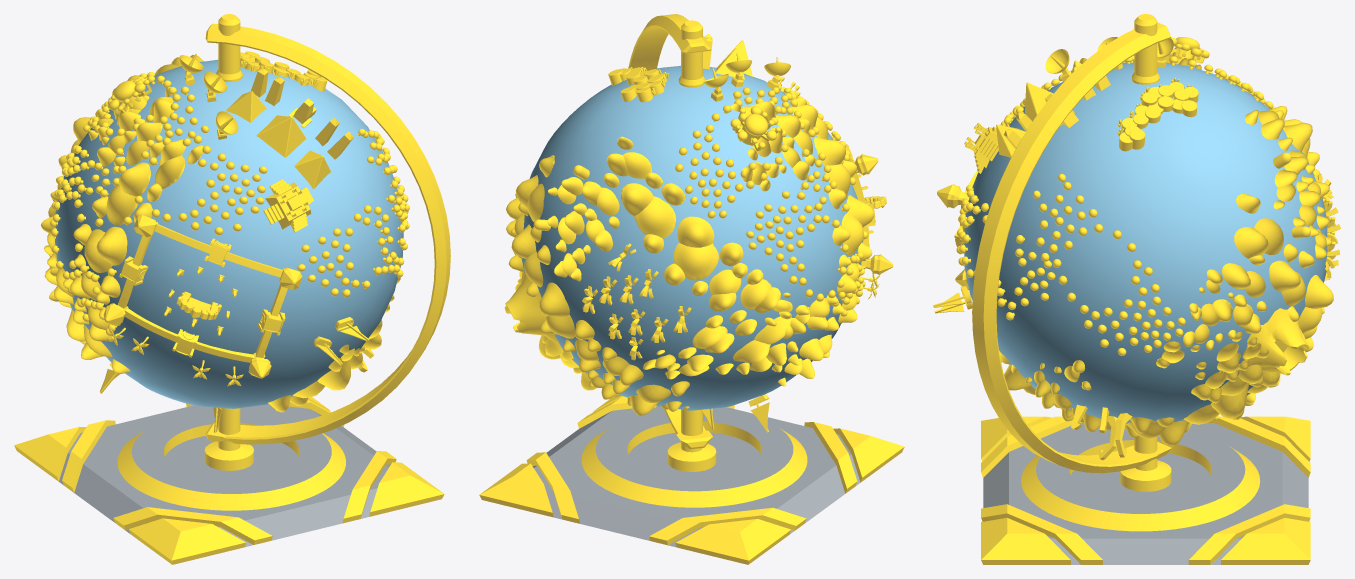
The model's file is Globe3.fbx.
3 views of the same model, side by side, from view 1: azimuth 30°, elevation 25°; view 2: azimuth 150°, elevation 25°; view 3: azimuth 270°, elevation 25° (orthographic). The views are drawn at different scales.
Parts seen in each view (by area): view 1: globe_3, deets, Globe3, arc_arm, stand, spinning_shaft; view 2: deets, globe_3, Globe3, stand, spinning_shaft, arc_arm; view 3: globe_3, deets, Globe3, arc_arm, stand, spinning_shaft.
Boxes of the visible parts, left/top/right/bottom form: globe_3: left=55, top=59, right=403, bottom=408; deets: left=41, top=51, right=409, bottom=432; Globe3: left=14, top=397, right=444, bottom=564; arc_arm: left=205, top=23, right=450, bottom=444; stand: left=117, top=409, right=345, bottom=510; spinning_shaft: left=204, top=14, right=253, bottom=470; deets: left=504, top=34, right=893, bottom=432; globe_3: left=521, top=66, right=863, bottom=410; Globe3: left=479, top=395, right=904, bottom=564; stand: left=581, top=408, right=807, bottom=507; spinning_shaft: left=667, top=20, right=716, bottom=471; arc_arm: left=628, top=14, right=712, bottom=449; globe_3: left=964, top=62, right=1327, bottom=425; deets: left=933, top=37, right=1340, bottom=460; Globe3: left=981, top=416, right=1310, bottom=564; arc_arm: left=972, top=22, right=1171, bottom=473; stand: left=1021, top=427, right=1259, bottom=531; spinning_shaft: left=1120, top=14, right=1171, bottom=491.
Bounding box in the file's own units: 0.8892 × 1.21 × 0.9367.
